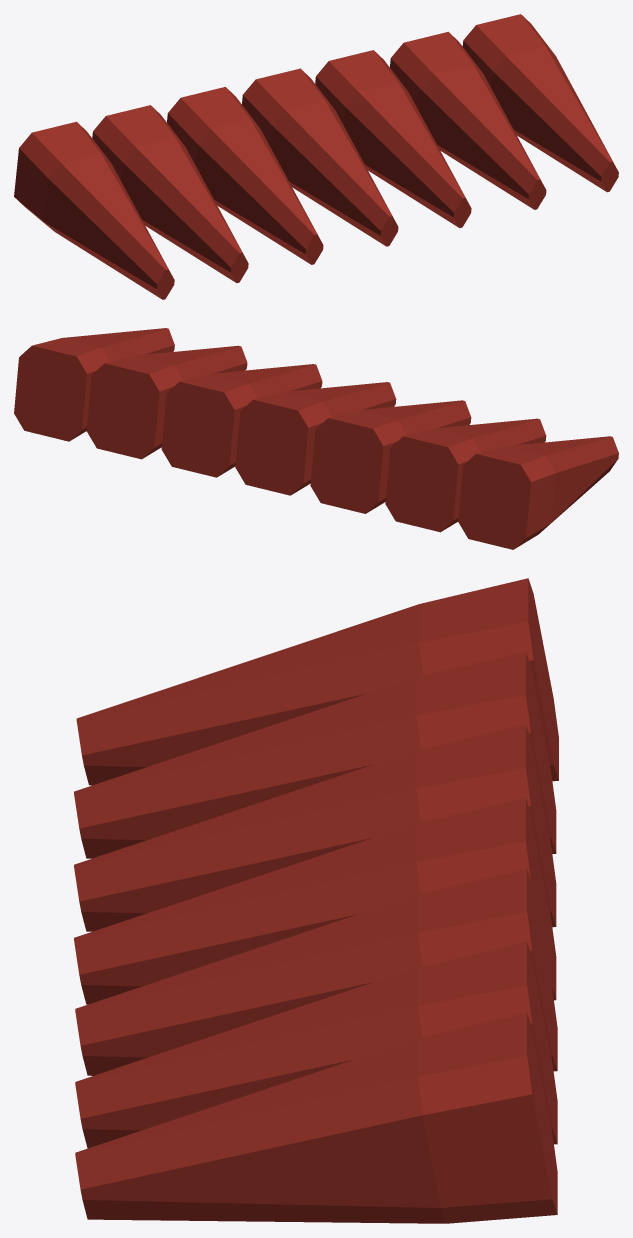
The model's file is Shield.fbx.
3 renders of one model, top to bottom at view 1: azimuth 30°, elevation 25°; view 2: azimuth 150°, elevation 25°; view 3: azimuth 270°, elevation 25°, orthographic. The views are drawn at different scales.
Parts seen in each view (by area): view 1: Shield; view 2: Shield; view 3: Shield.
Part boxes in pixels (bbox=[...]): Shield: bbox=[14, 14, 618, 299]; Shield: bbox=[14, 328, 618, 549]; Shield: bbox=[74, 578, 558, 1223].
Size of the model in its own units: 3.56 by 0.6174 by 1.46.
